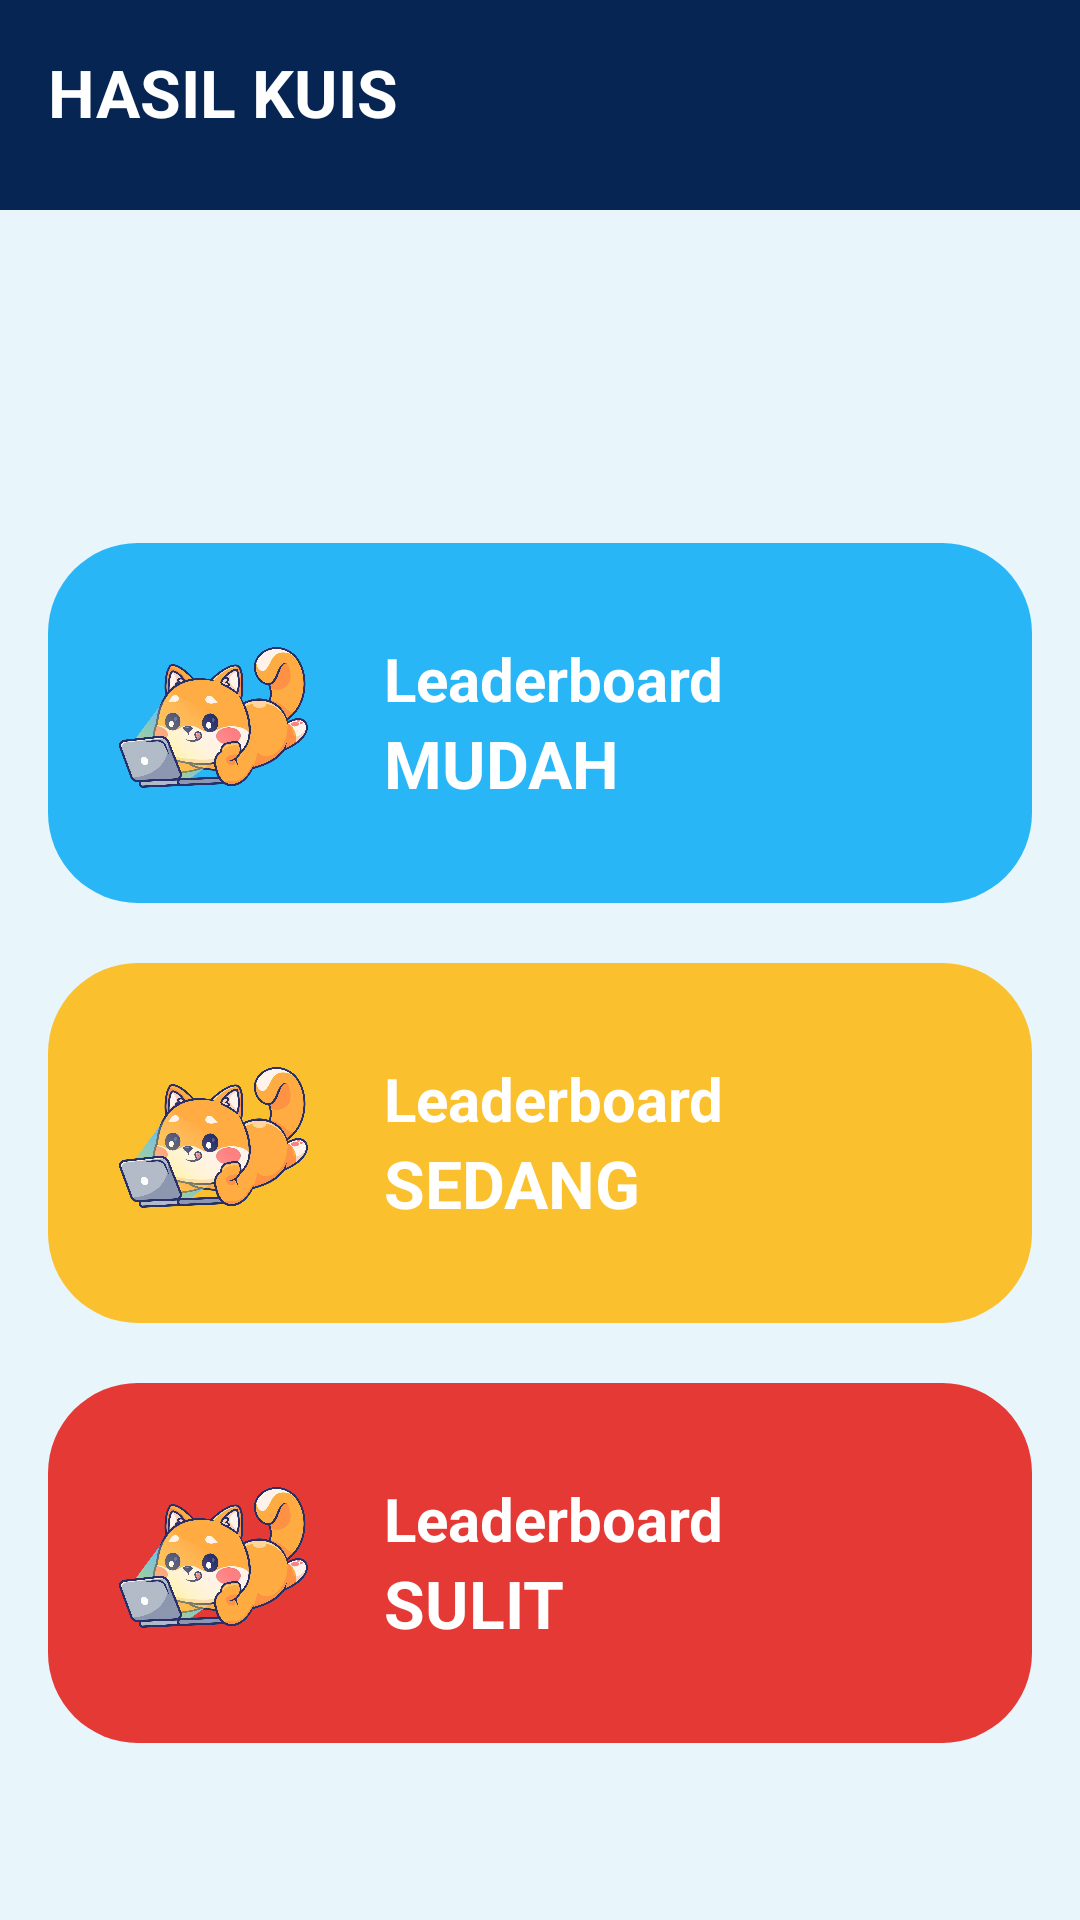

Screen size 1080 x 1920. Icon name, then its box in pixels as [x1, y1, x2, y2]:
maskot: [119, 647, 308, 788], [119, 1067, 308, 1208], [119, 1487, 308, 1628]
